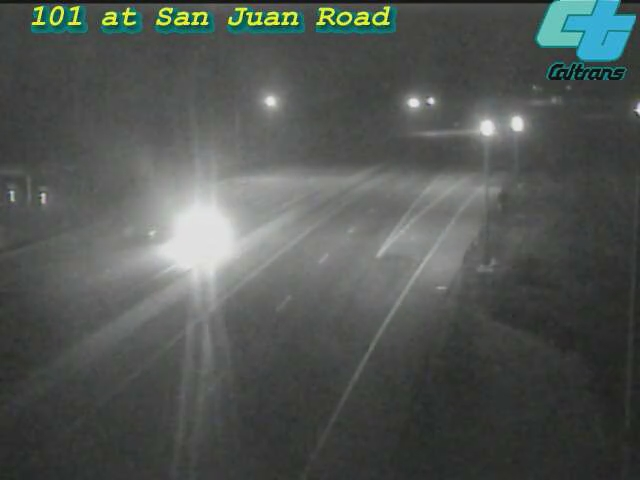vehicle: (151, 196, 231, 276), (459, 105, 509, 155), (489, 99, 539, 149)
